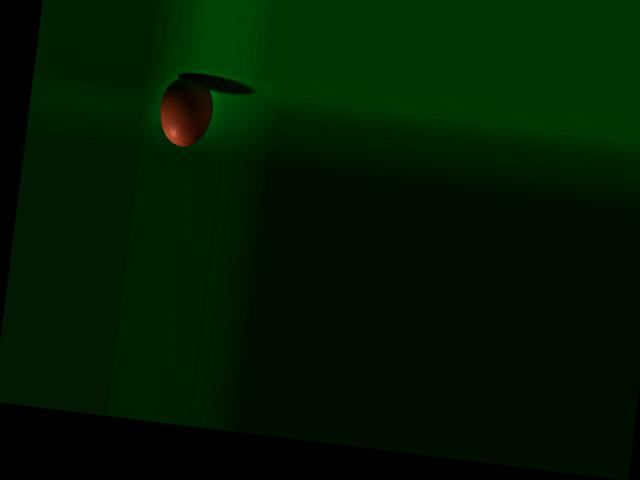egg: (156, 73, 216, 149)
